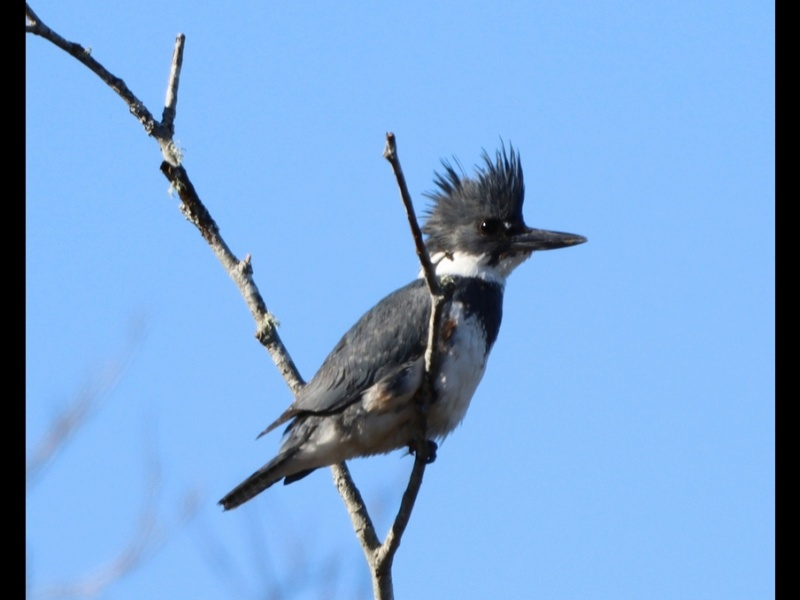kingfisher: (217, 134, 590, 514)
